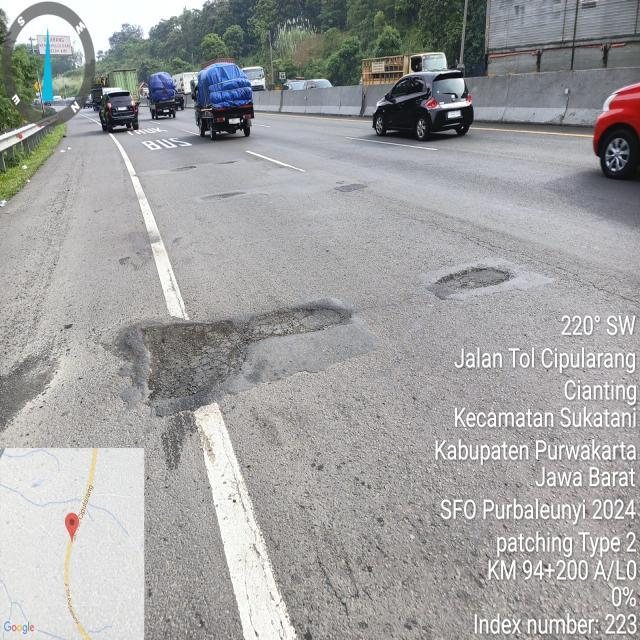Buraco: (134, 302, 356, 410), (431, 264, 514, 293), (196, 190, 248, 203), (164, 164, 200, 174), (213, 159, 242, 167)
